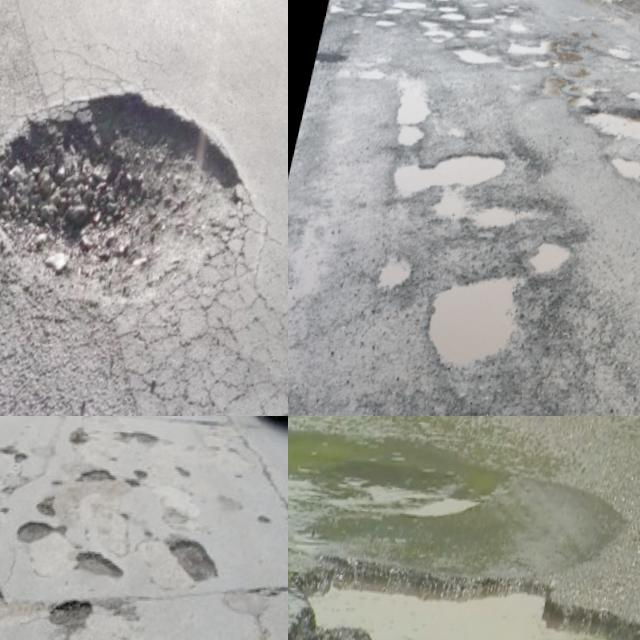Potholes: (0, 29, 288, 397), (288, 474, 640, 640), (288, 416, 548, 617), (415, 200, 600, 416), (366, 102, 546, 263), (324, 41, 464, 163), (511, 0, 639, 127), (367, 0, 526, 97), (583, 50, 640, 207)
